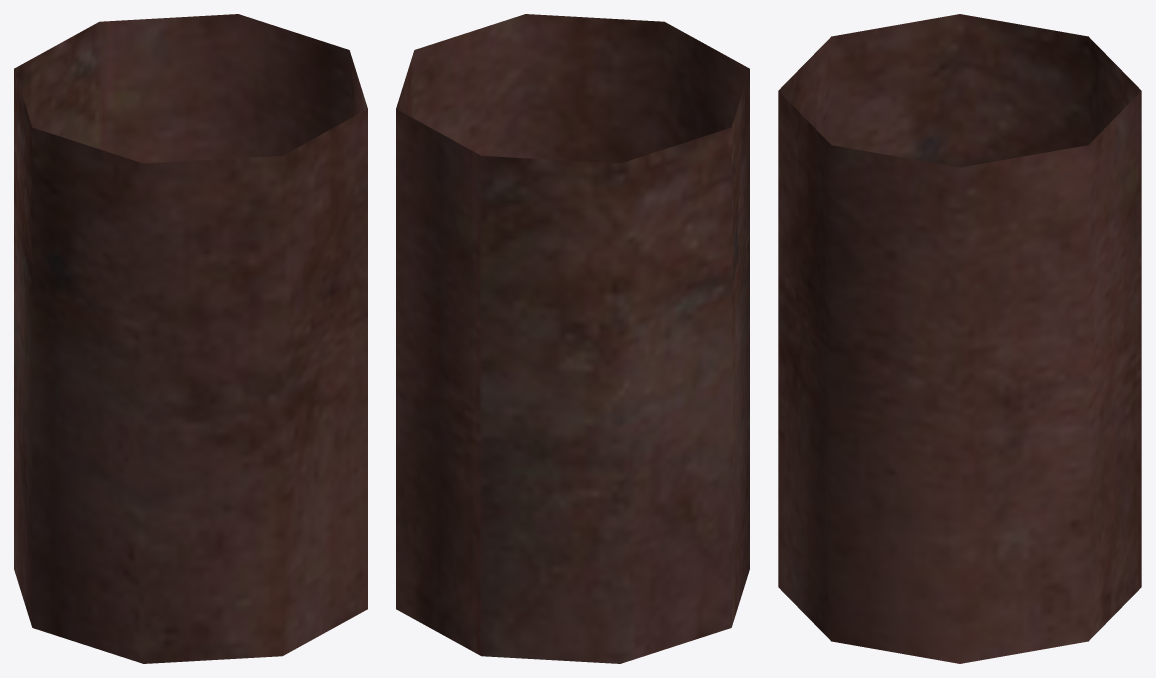
File: RustyThick_S.FBX
3 views of the same model, side by side, from view 1: azimuth 30°, elevation 25°; view 2: azimuth 150°, elevation 25°; view 3: azimuth 270°, elevation 25° (orthographic).
Visible parts, largest first — view 1: RustyThick_S; view 2: RustyThick_S; view 3: RustyThick_S.
Boxes of the visible parts, x1,y1,x2,y2 form: RustyThick_S: (14, 14, 367, 663); RustyThick_S: (396, 14, 749, 663); RustyThick_S: (778, 14, 1141, 663).
Size of the model in its own units: 51.77 by 78 by 51.77.
